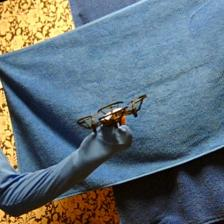drone: (74, 92, 148, 134)
